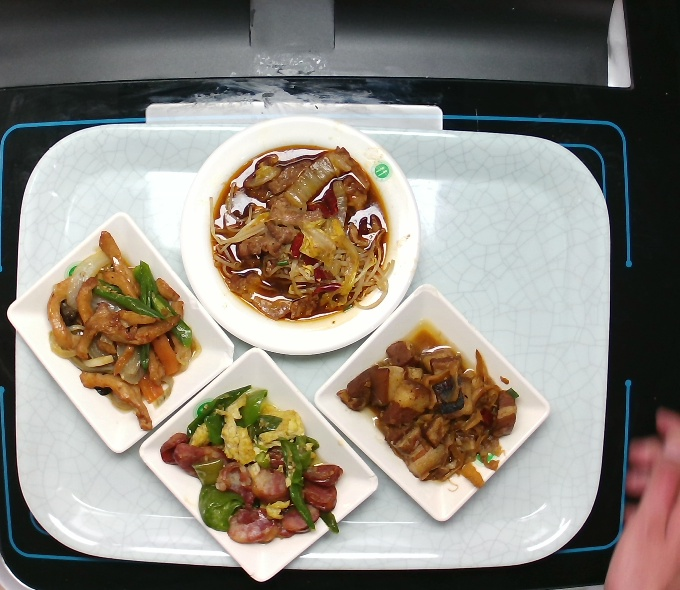wcq-HongShaoRou: (333, 327, 520, 488)
wcq-QingJiaoJiDanChaoDaChang: (160, 381, 349, 548)
wcq-QingJiaoRouSi: (44, 226, 201, 434)
wcq-ShuiZhuRouPian: (204, 140, 397, 323)
